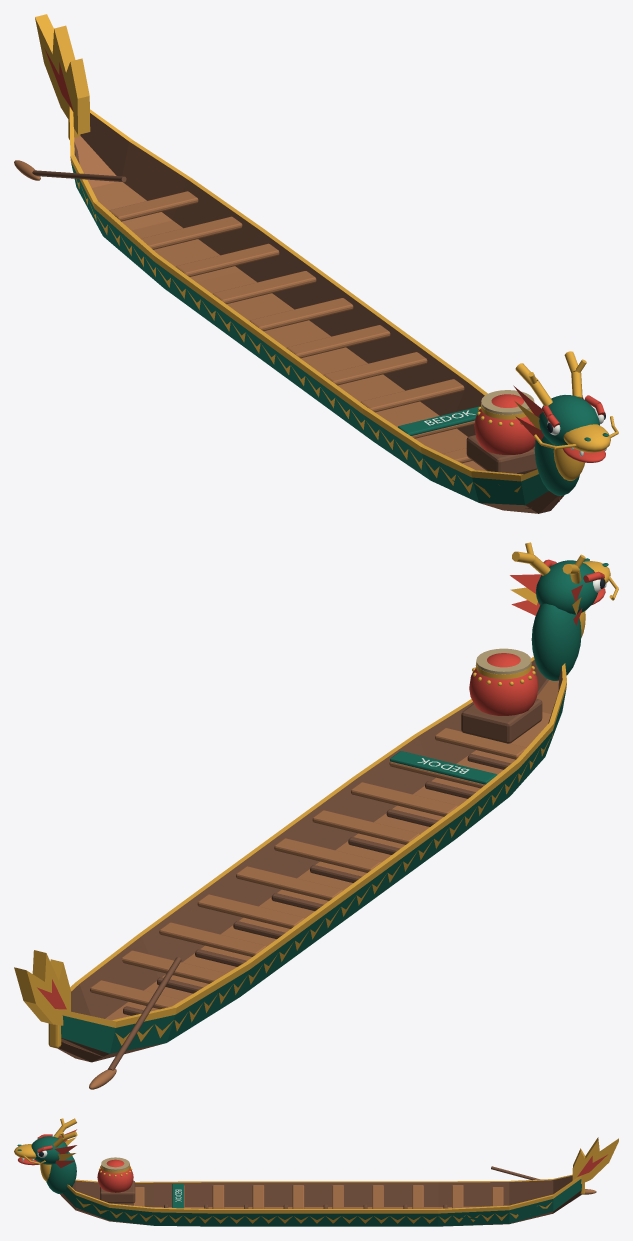
3 views of the same model, one above another, from view 1: azimuth 30°, elevation 25°; view 2: azimuth 150°, elevation 25°; view 3: azimuth 270°, elevation 25° (orthographic). The views are drawn at different scales.
Parts seen in each view (by area): view 1: Bedok Festival Dragon Boat; view 2: Bedok Festival Dragon Boat; view 3: Bedok Festival Dragon Boat.
Boxes of the visible parts, x1,y1,x2,y2 form: Bedok Festival Dragon Boat: (14,14,618,513); Bedok Festival Dragon Boat: (14,542,618,1089); Bedok Festival Dragon Boat: (14,1118,618,1226).
Size of the model in its own units: 1.32 by 2.08 by 11.68.
